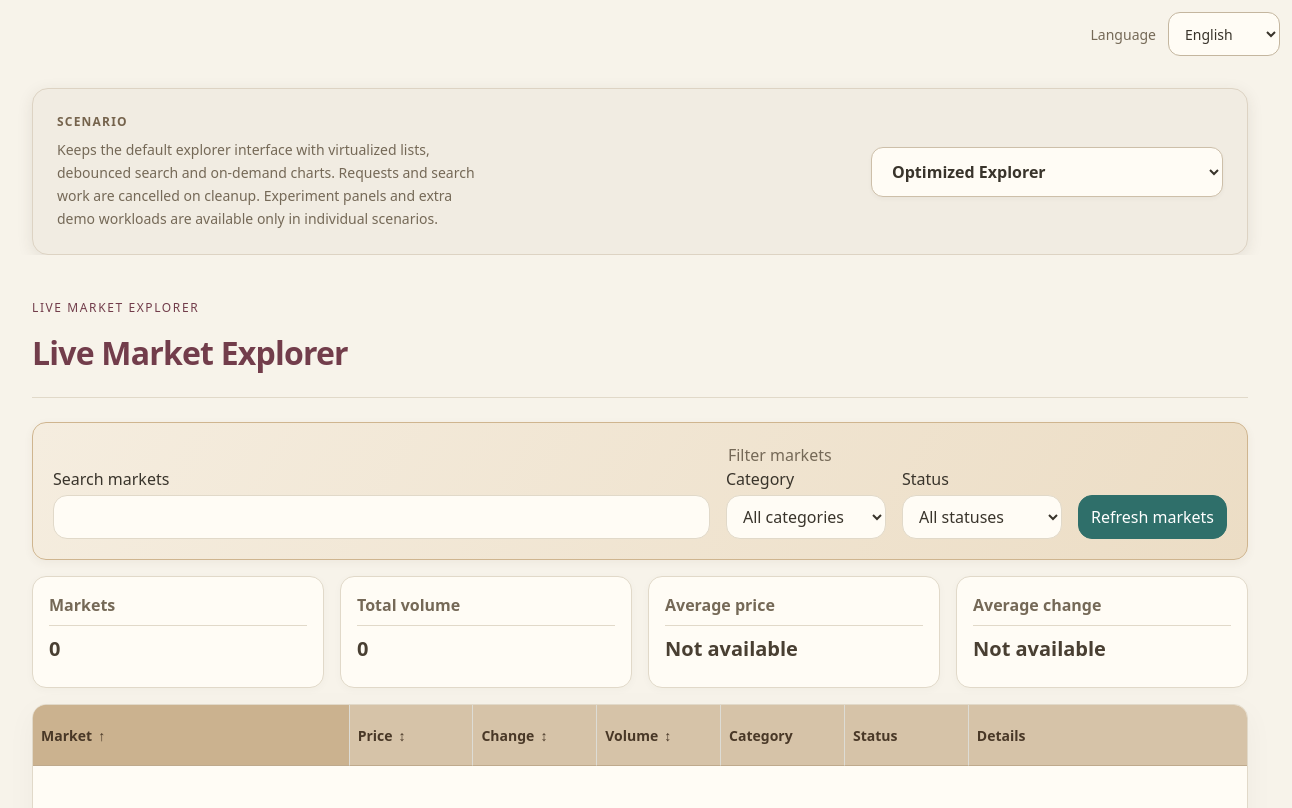
Test case: combined optimized explorer › defaults to a clean optimized explorer with translated copy
This screenshot has width=1292, height=808.
Expected: the text "Keeps the default explorer interface" is shown, [57,140,475,228]
Select "Large list" in the dropdown labelled "Scenario": (1047, 172) [871,147,1223,197]
Select "Tiếng Việt" in the dropdown labelled "Language": (1224, 34) [1168,12,1280,56]
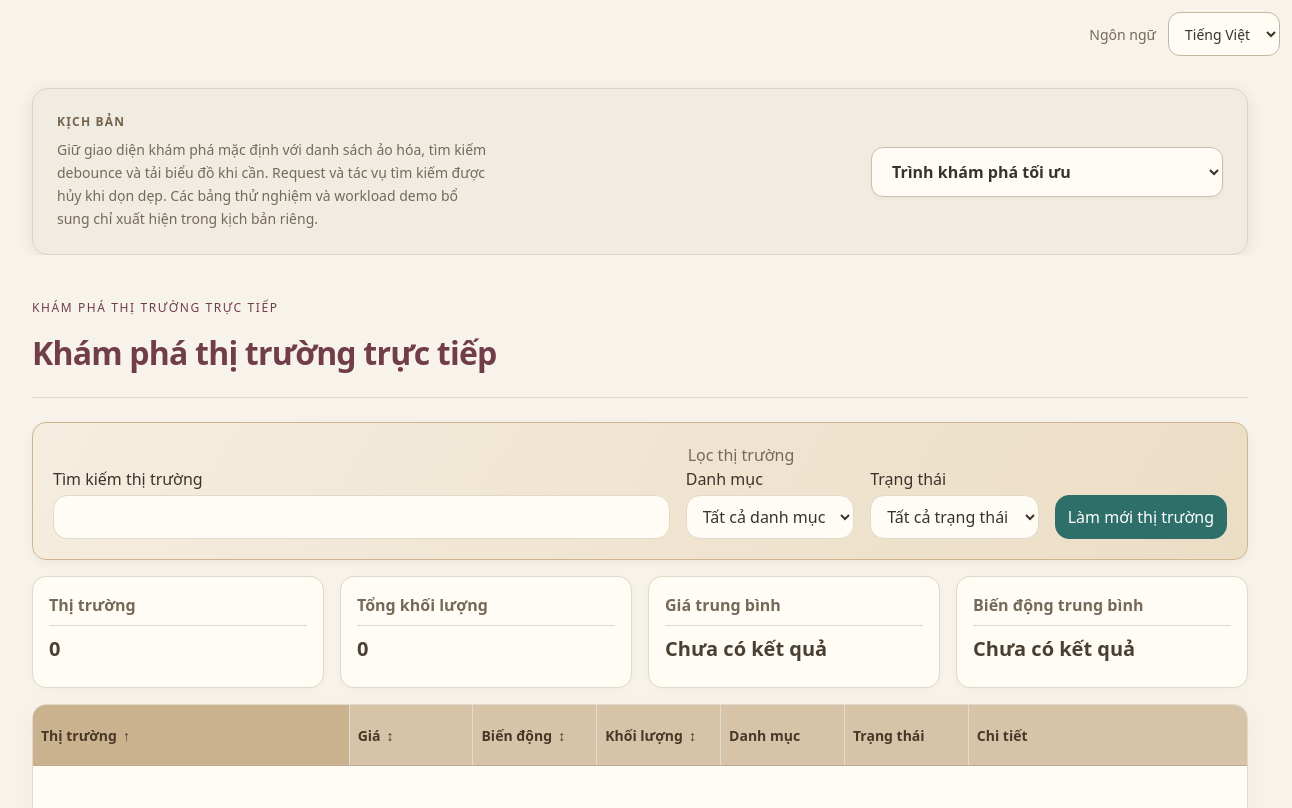
Now the text "Giữ giao diện khám phá mặc định" is shown, box [57,140,486,228]
